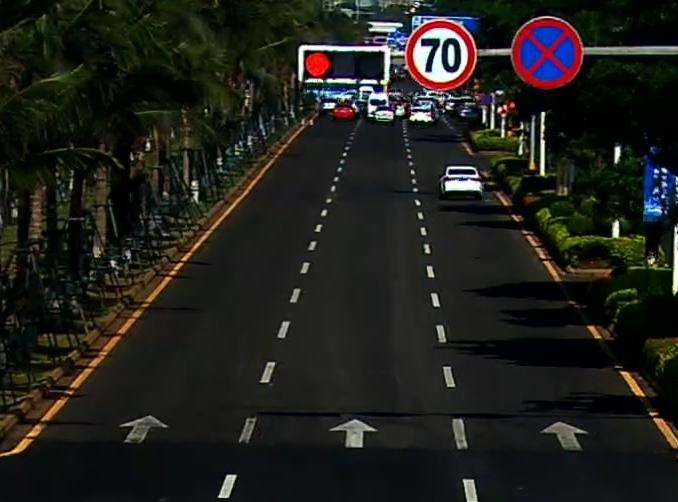red: (305, 51, 327, 77)
